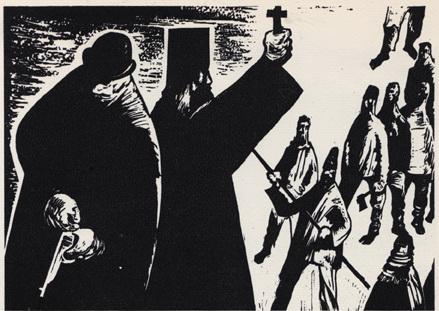person: (155, 25, 289, 310), (11, 37, 151, 305), (253, 115, 329, 269), (281, 144, 345, 310), (336, 83, 388, 245), (366, 77, 414, 236), (401, 80, 439, 227), (366, 231, 425, 311), (402, 37, 439, 117)
